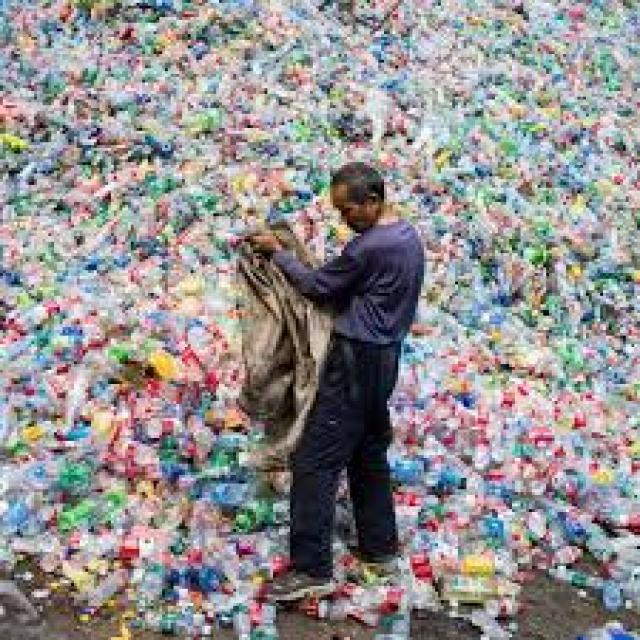plastic: (15, 12, 640, 621)
